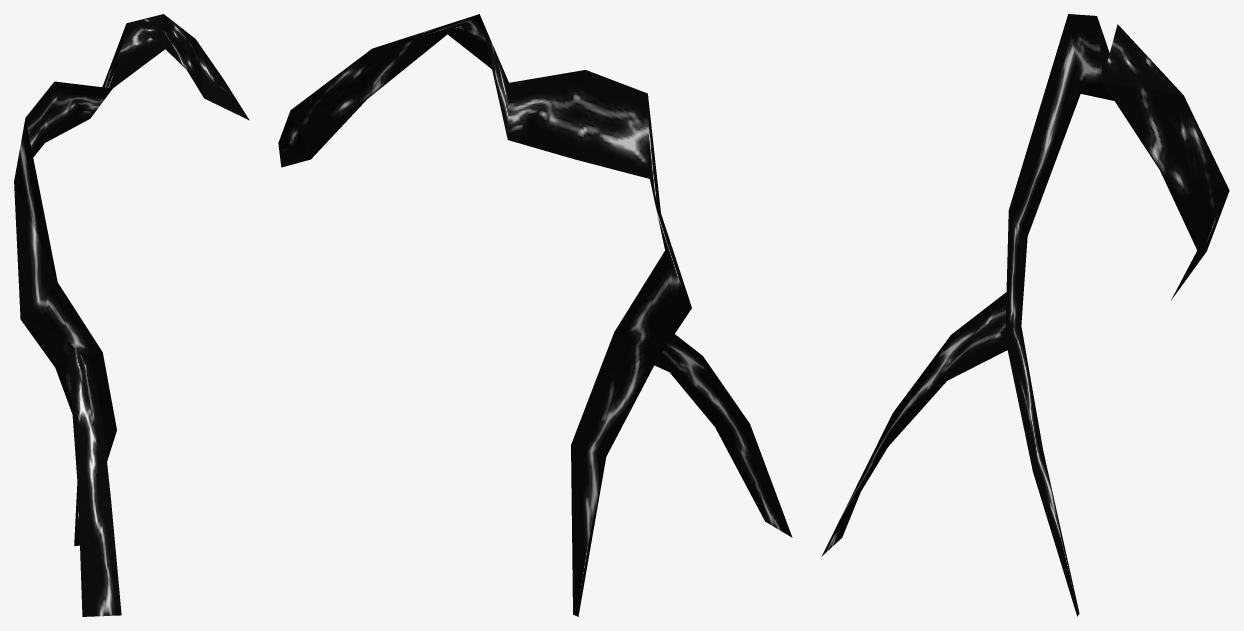
File: sfyyy_sdmx_002.fbx
3 views of the same model, side by side, from view 1: azimuth 30°, elevation 25°; view 2: azimuth 150°, elevation 25°; view 3: azimuth 270°, elevation 25° (orthographic). The views are drawn at different scales.
Parts seen in each view (by area): view 1: sfyyy_sdmx_002; view 2: sfyyy_sdmx_002; view 3: sfyyy_sdmx_002.
Part boxes in pixels (x1=…): sfyyy_sdmx_002: x1=14, y1=14, x2=249, y2=616; sfyyy_sdmx_002: x1=278, y1=14, x2=792, y2=616; sfyyy_sdmx_002: x1=821, y1=14, x2=1229, y2=616.
Size of the model in its own units: 2.38 by 3.81 by 2.23.
